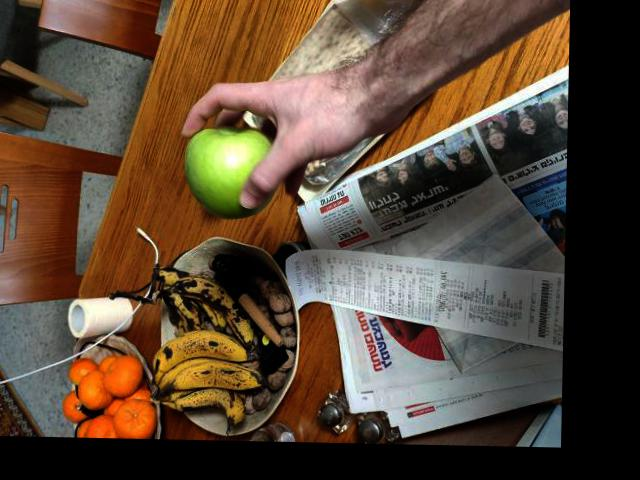apple: (178, 125, 289, 215)
